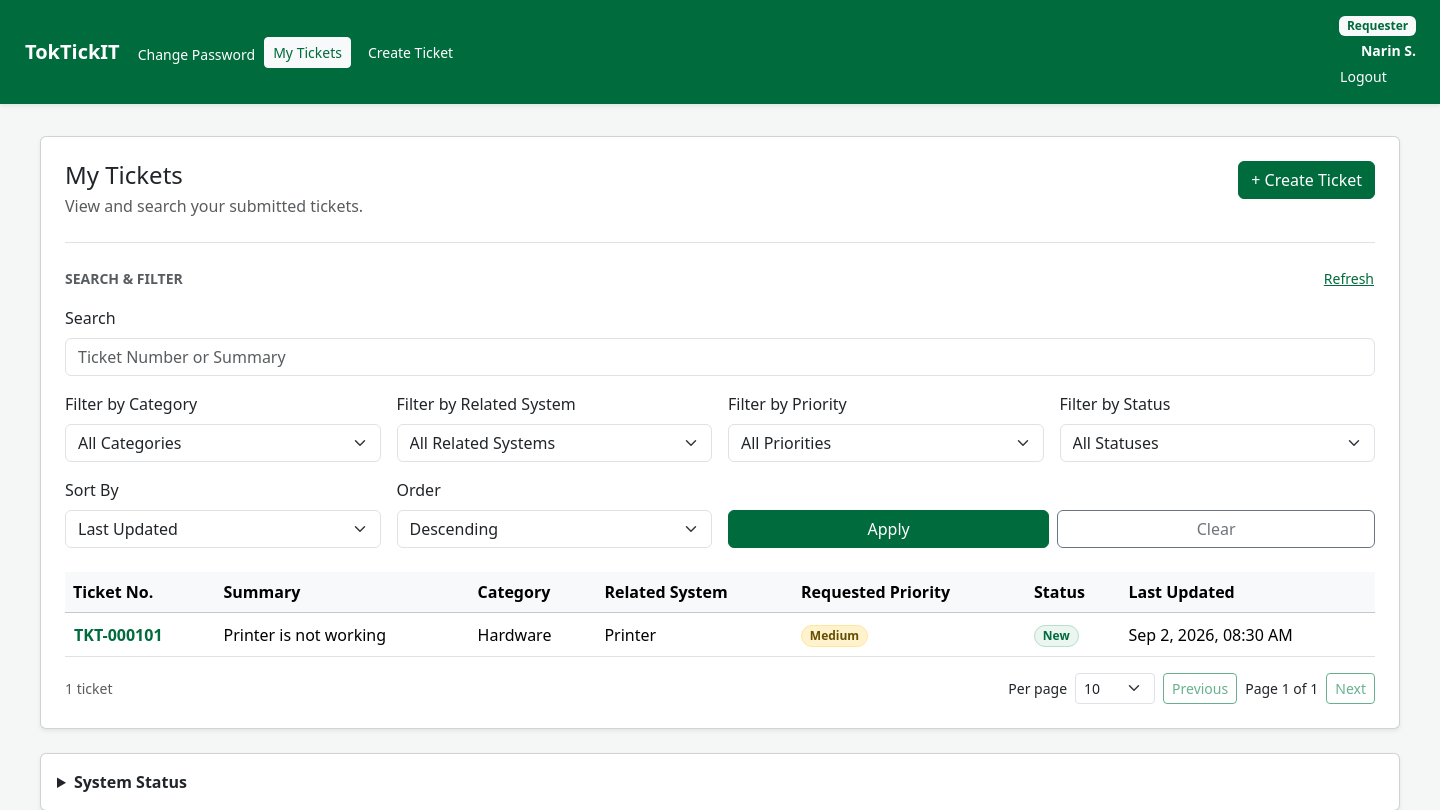
Lab 2 - Attachment Section › disables upload and explains the five-active-attachment limit
The width and height of the screenshot is (1440, 810).
What coordinates should you click on to do the following:
click the button with aria-label "View TKT-000101"
I would click on:
 (118, 635)
Its box is [73, 622, 164, 648].
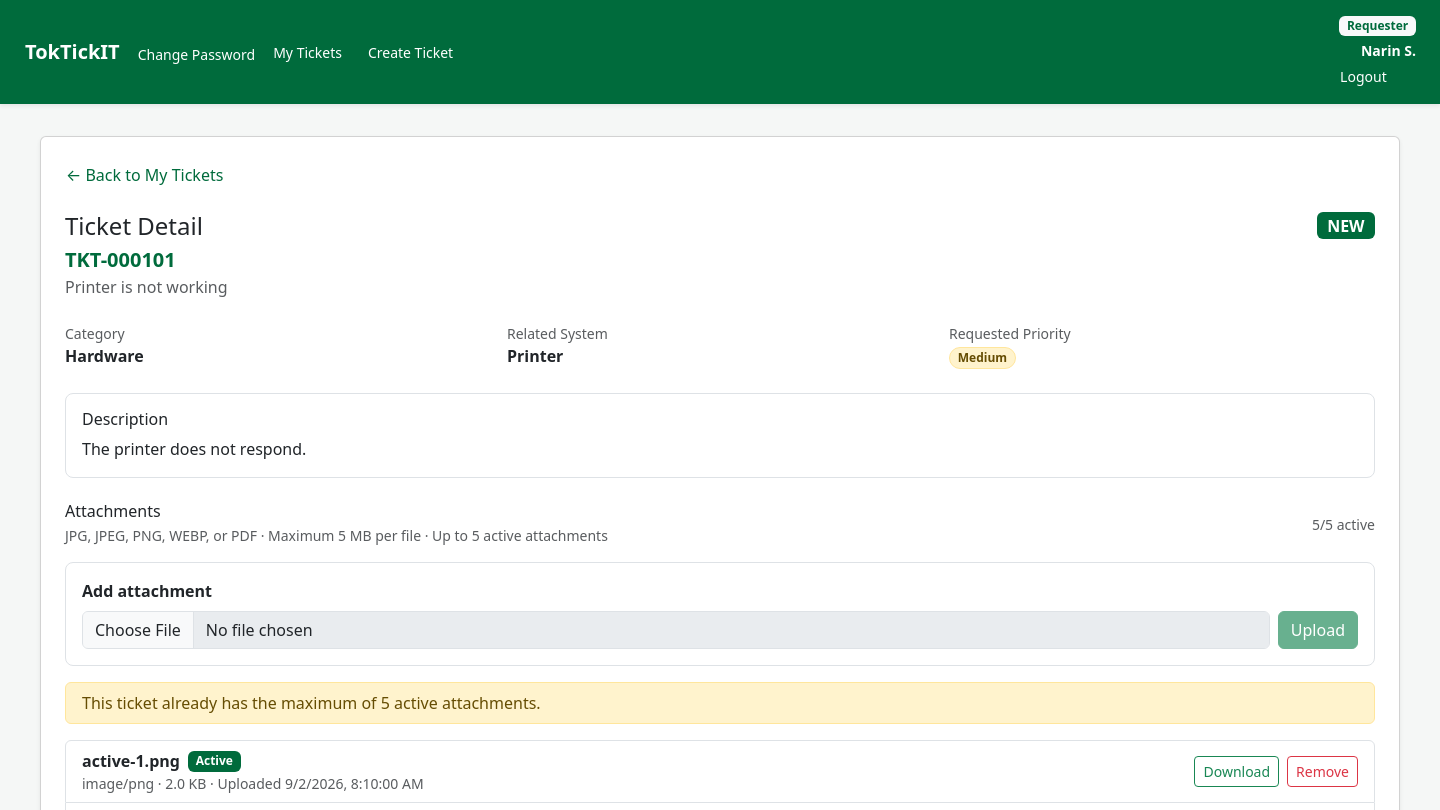
Expected: the heading "Ticket Detail" is shown, [65, 209, 203, 242]
Expected: the file field labelled "Add attachment" is disabled, [82, 612, 1270, 650]
Expected: the text "This ticket already has the maximum of 5 active attachments." is shown, [65, 682, 1375, 724]
